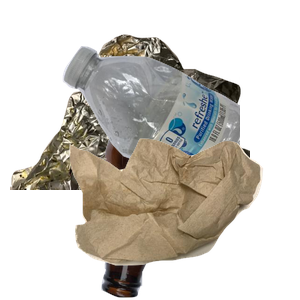glass: (99, 140, 300, 300)
metal: (10, 32, 250, 212)
plastic: (60, 44, 300, 224)
trash: (67, 136, 300, 300)
